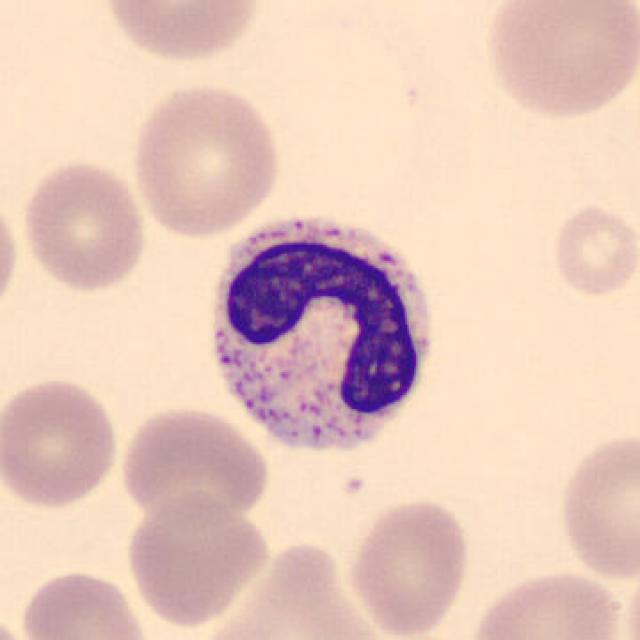Neutrophil: (194, 202, 448, 472)
RBC: (126, 78, 284, 240), (121, 488, 272, 630), (116, 400, 272, 531), (194, 539, 393, 640), (480, 0, 638, 122), (343, 494, 475, 638), (16, 155, 151, 295), (0, 372, 123, 513), (553, 427, 638, 585), (466, 564, 628, 640), (96, 0, 265, 67), (16, 566, 155, 640), (548, 199, 638, 300), (0, 183, 23, 323)
